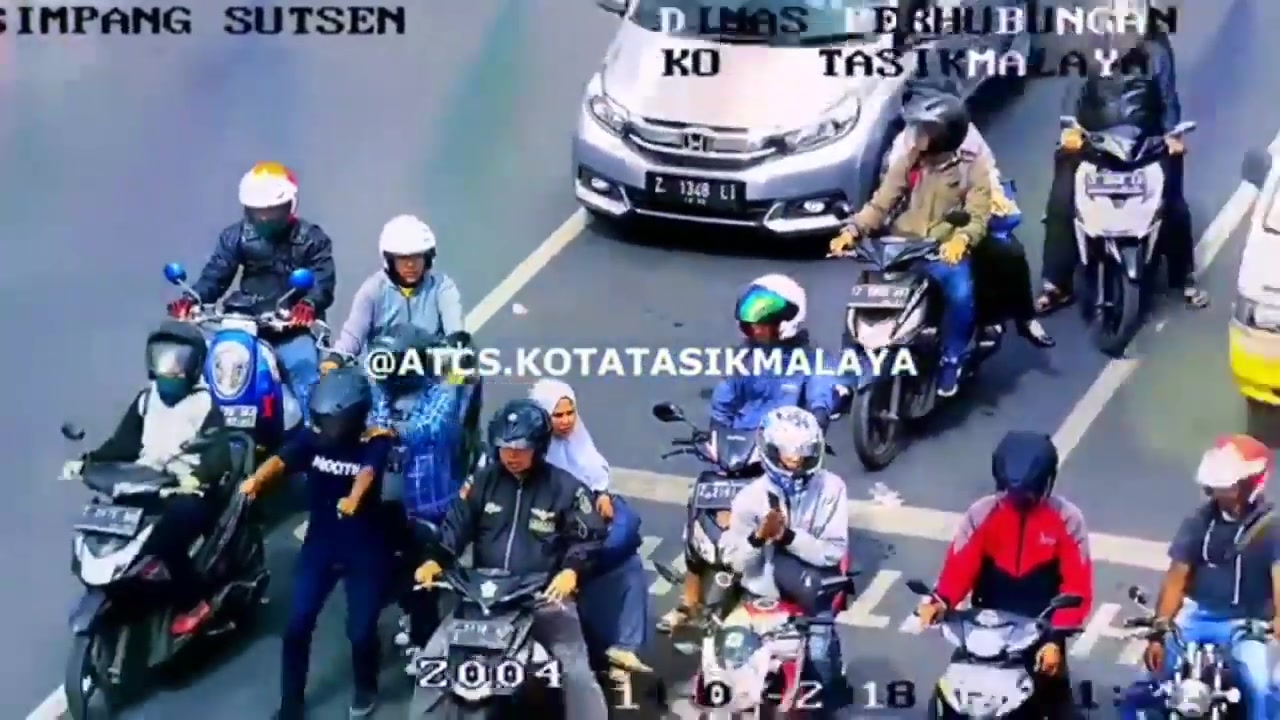person with motorcycle: (419, 373, 646, 720), (71, 318, 256, 685), (832, 92, 988, 451), (178, 139, 339, 449), (936, 419, 1098, 720), (1145, 415, 1280, 714)
